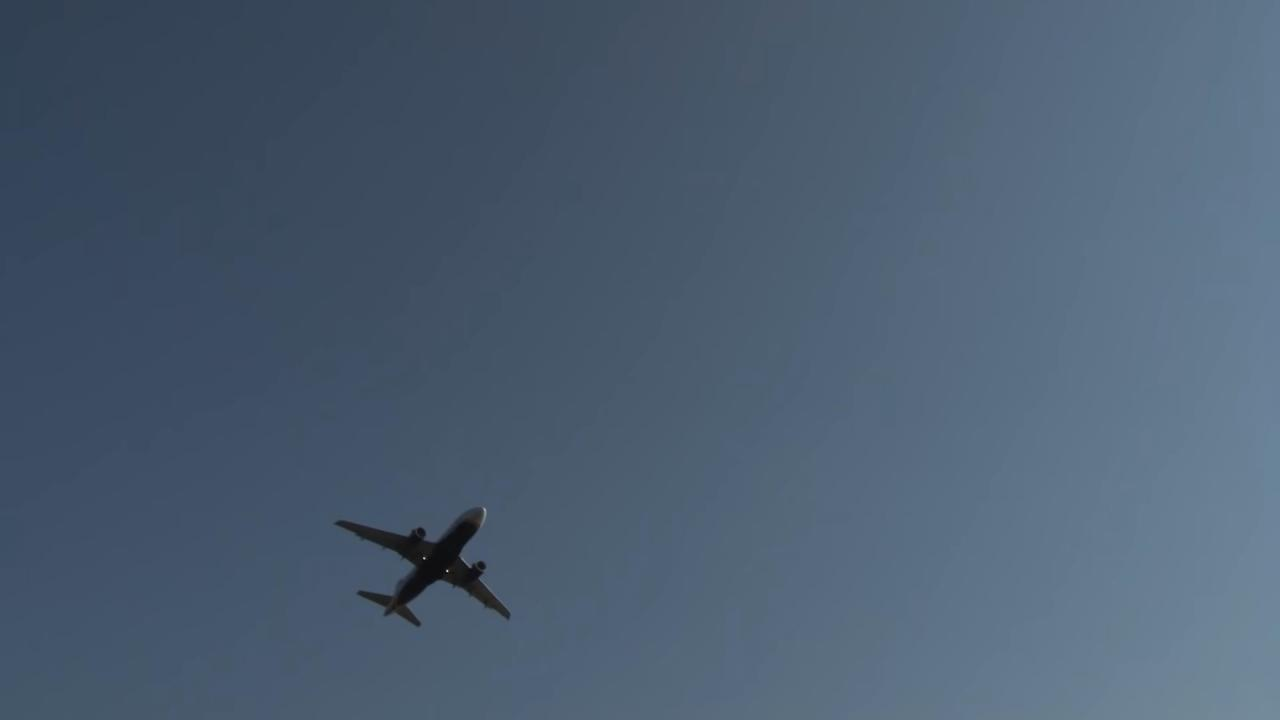Airplane: (326, 492, 524, 639)
